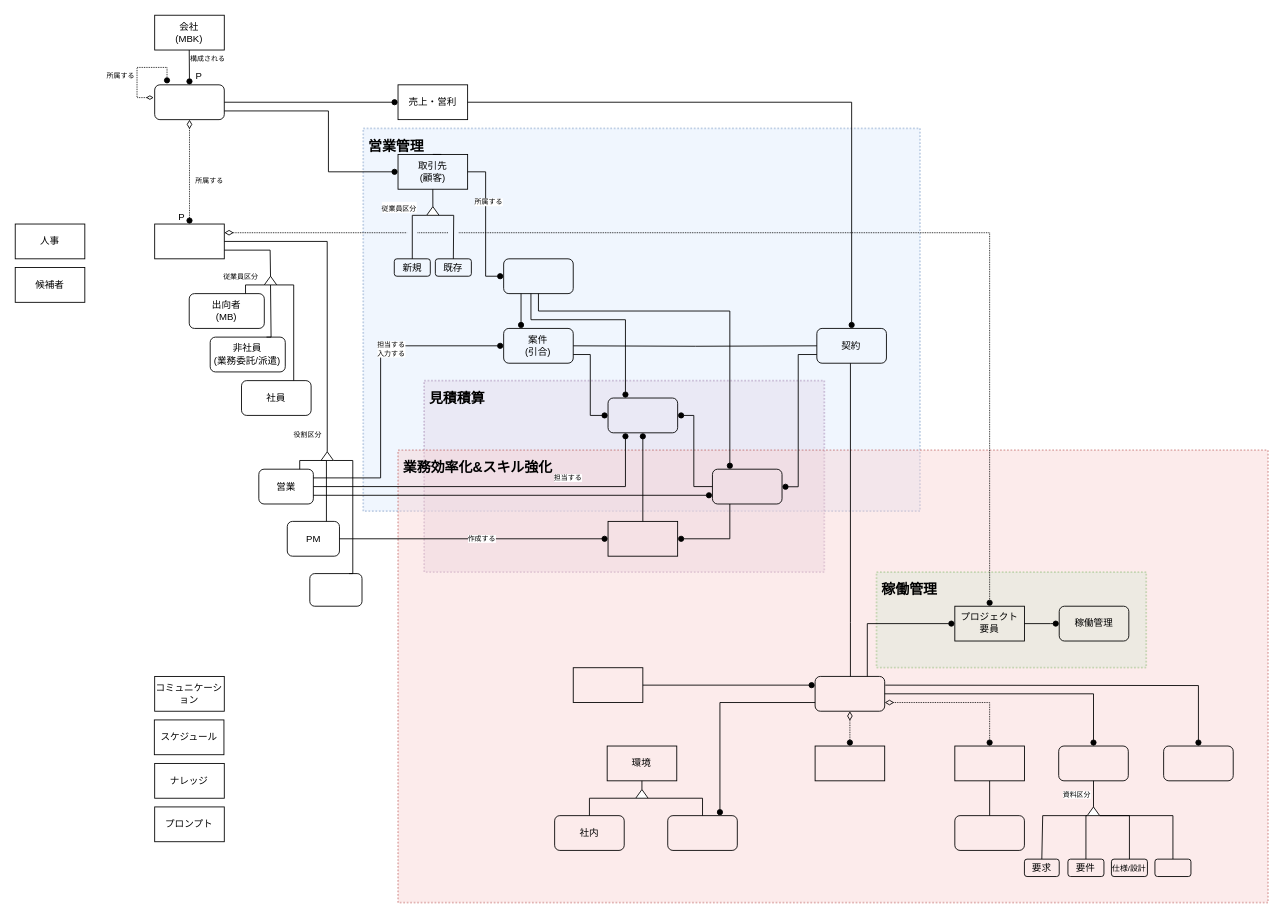
This 1284x919 diagram has some shape labels left out. Each missing label, with the box of its shape:
エンジニア: (309, 573, 362, 606)
ソースコード: (1163, 745, 1233, 781)
会議: (954, 745, 1024, 781)
取引先責任者 (名簿): (503, 258, 573, 294)
商談: (607, 397, 678, 433)
従業員: (154, 223, 224, 259)
提案: (607, 521, 678, 556)
社外 (顧客環境): (667, 815, 737, 850)
見積: (712, 468, 782, 504)
課題: (814, 745, 885, 781)
議事録: (954, 815, 1024, 850)
資料: (1058, 745, 1128, 781)
部門: (154, 84, 224, 120)
開発 プロジェクト (案件): (814, 676, 885, 711)
顧客: (572, 667, 643, 703)
